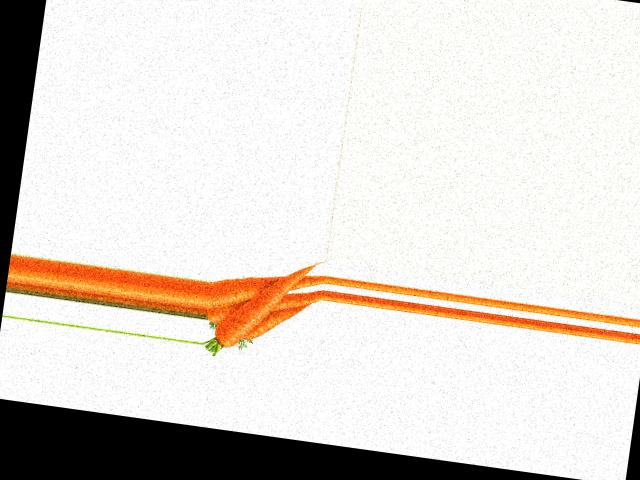carrot: (207, 273, 297, 318)
